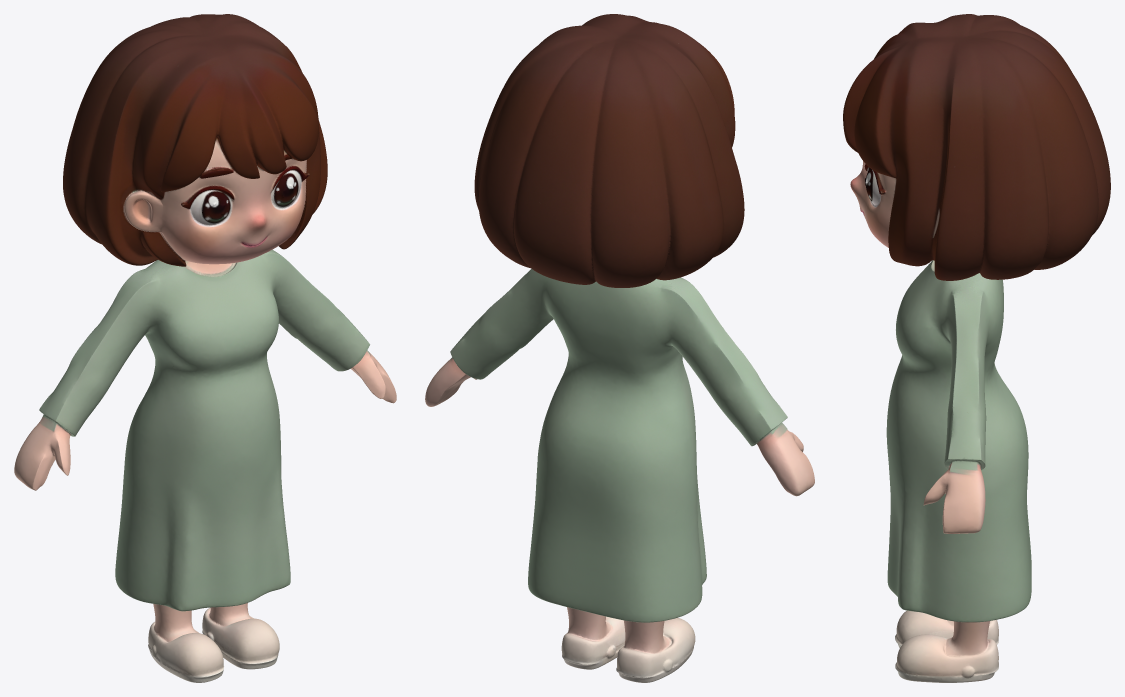
File: char_yeoja_jubu_base.glb
The picture shows the model from 3 angles, left to right: view 1: azimuth 30°, elevation 25°; view 2: azimuth 150°, elevation 25°; view 3: azimuth 270°, elevation 25°; orthographic projection.
Bounding box in the file's own units: 0.8741 × 1.4 × 0.5415.
1 material, 1 textured.
